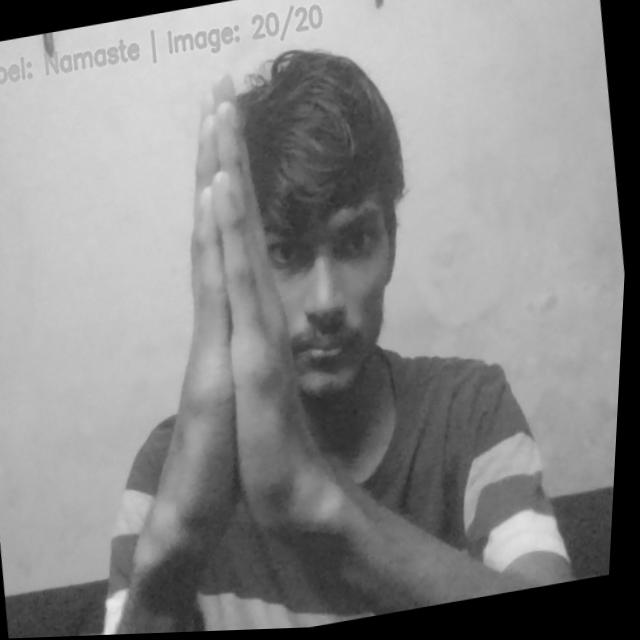Namaste: (118, 63, 347, 553)
